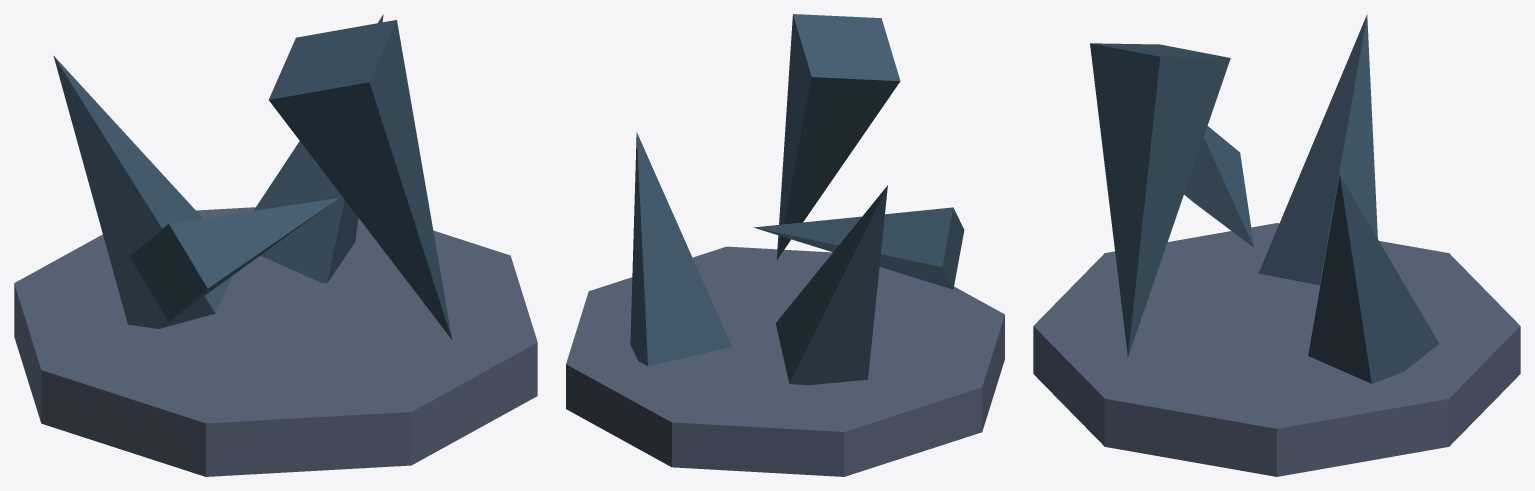
File: AetherNode.fbx
The picture shows the model from 3 angles, left to right: view 1: azimuth 30°, elevation 25°; view 2: azimuth 150°, elevation 25°; view 3: azimuth 270°, elevation 25°; orthographic projection. The views are drawn at different scales.
Visible parts, largest first — view 1: AetherNode_Base, AetherNode_Shard3, AetherNode_Shard2, AetherNode_Shard4, AetherNode_Shard1; view 2: AetherNode_Base, AetherNode_Shard3, AetherNode_Shard2, AetherNode_Shard1, AetherNode_Shard4; view 3: AetherNode_Base, AetherNode_Shard3, AetherNode_Shard1, AetherNode_Shard2, AetherNode_Shard4.
Part boxes in pixels (<box>): AetherNode_Base: <box>14,207,537,476</box>; AetherNode_Shard3: <box>269,20,452,339</box>; AetherNode_Shard2: <box>53,55,232,328</box>; AetherNode_Shard4: <box>130,198,338,321</box>; AetherNode_Shard1: <box>254,14,383,283</box>; AetherNode_Base: <box>566,246,1004,476</box>; AetherNode_Shard3: <box>776,14,900,259</box>; AetherNode_Shard2: <box>775,185,887,384</box>; AetherNode_Shard1: <box>630,132,731,366</box>; AetherNode_Shard4: <box>753,207,964,289</box>; AetherNode_Base: <box>1033,223,1520,476</box>; AetherNode_Shard3: <box>1090,43,1230,356</box>; AetherNode_Shard1: <box>1308,174,1439,383</box>; AetherNode_Shard2: <box>1258,14,1377,285</box>; AetherNode_Shard4: <box>1184,126,1254,247</box>.
Size of the model in its own units: 2 by 1.55 by 2.
